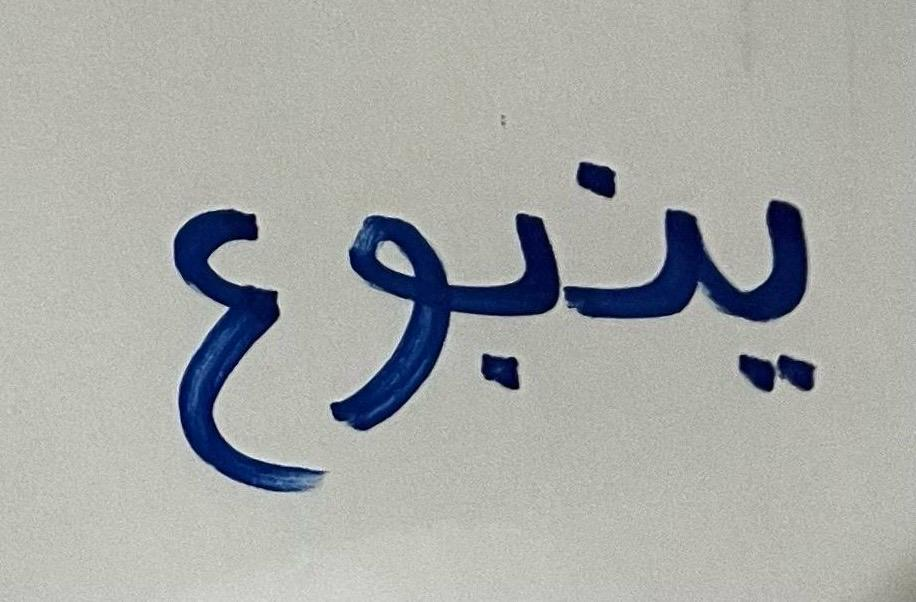ain: (157, 146, 312, 513)
beh: (461, 133, 562, 438)
noon: (567, 86, 712, 363)
waw: (315, 139, 458, 446)
yeh: (715, 134, 854, 415)
